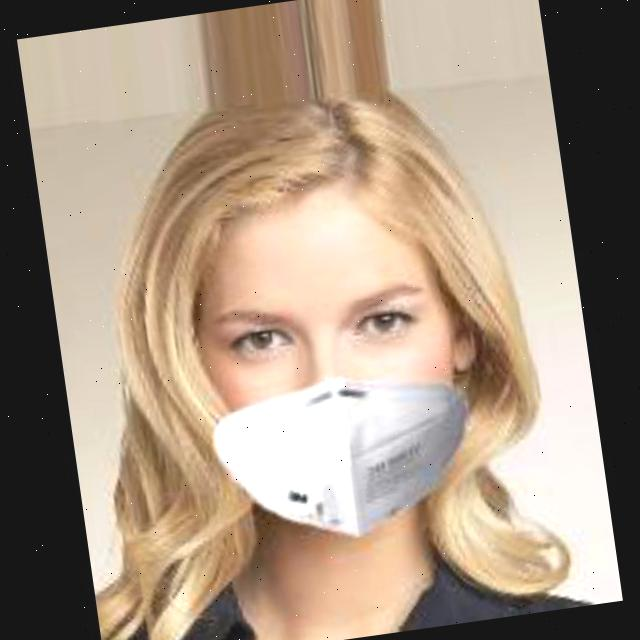suspicion: (132, 111, 514, 574)
